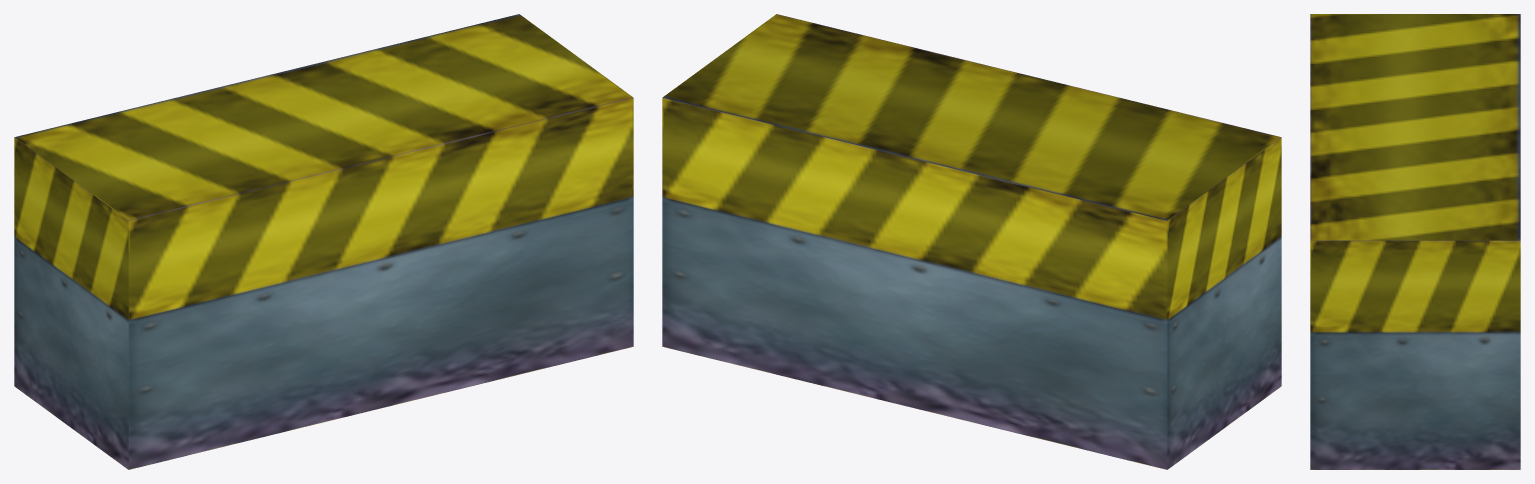
Rendered from barrier.glb.
3 views of the same model, side by side, from view 1: azimuth 30°, elevation 25°; view 2: azimuth 150°, elevation 25°; view 3: azimuth 270°, elevation 25° (orthographic). The views are drawn at different scales.
Visible parts, largest first — view 1: barrier; view 2: barrier; view 3: barrier.
Part boxes in pixels (x1,y1,x2,y2): barrier: [14, 14, 633, 469]; barrier: [662, 14, 1281, 469]; barrier: [1310, 14, 1520, 469].
Bounding box in the file's own units: 719 × 339 × 282.
Materials: 1 (1 with a texture image).
